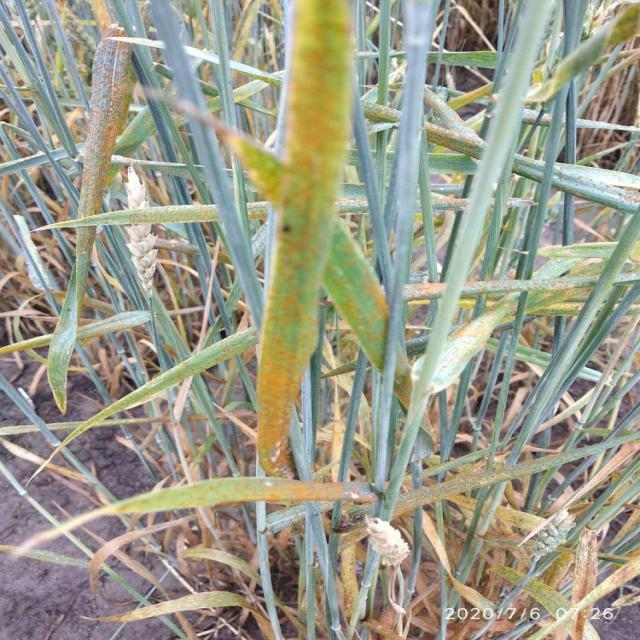wheat-septoria: (257, 0, 352, 481), (324, 219, 389, 372), (226, 130, 303, 202)
